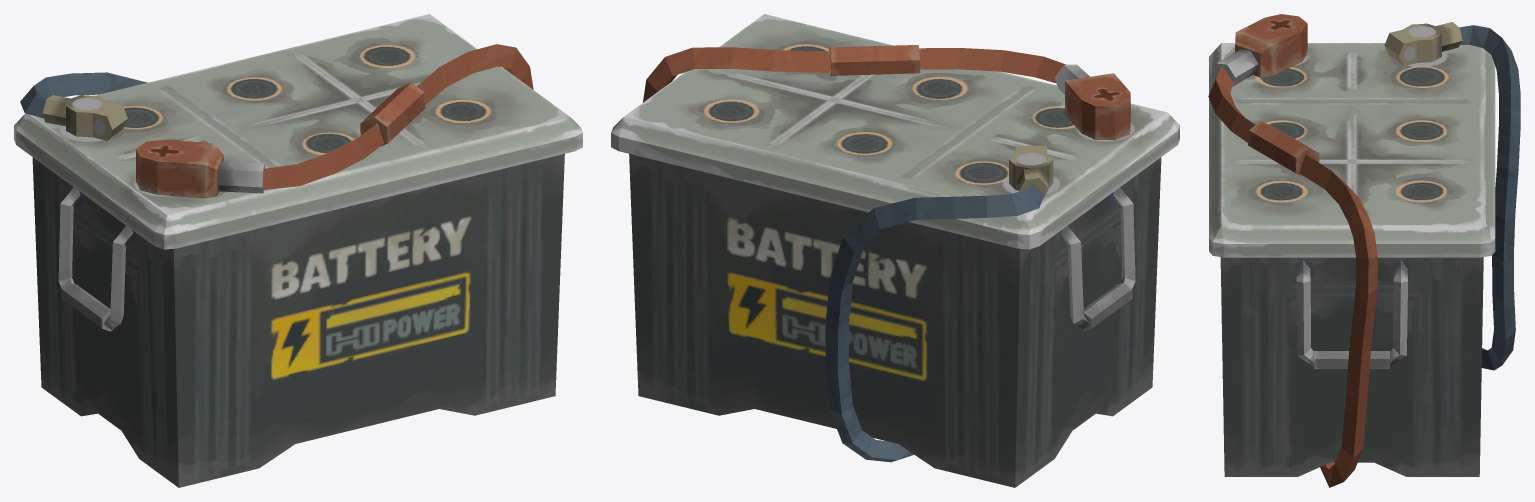
The model's file is P_Appliance_00234.obj.
3 renders of one model, left to right at view 1: azimuth 30°, elevation 25°; view 2: azimuth 150°, elevation 25°; view 3: azimuth 270°, elevation 25°, orthographic. The views are drawn at different scales.
Size of the model in its own units: 0.7775 by 0.5076 by 0.49.
1 material, 1 textured.
